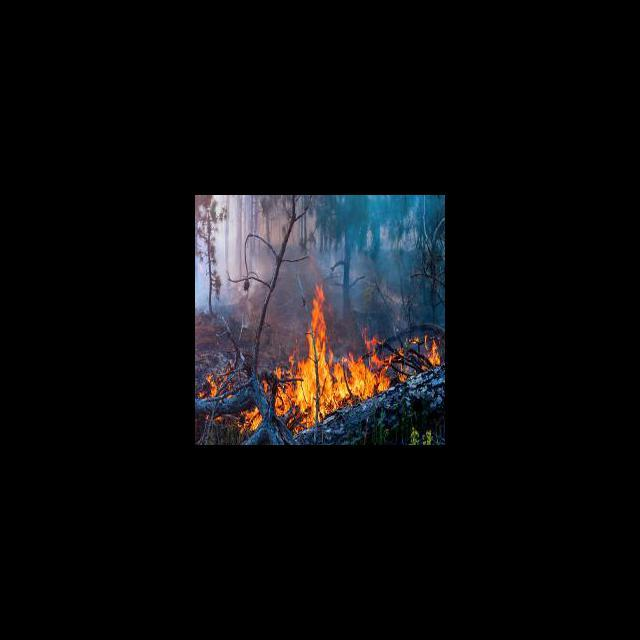Fire: (276, 288, 401, 431), (238, 403, 262, 432), (422, 340, 441, 368), (198, 374, 218, 396)
Smoke: (325, 196, 434, 284), (196, 206, 238, 308)
